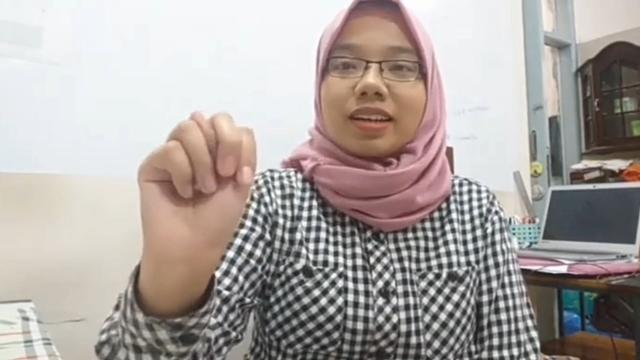N: (134, 108, 258, 255)
